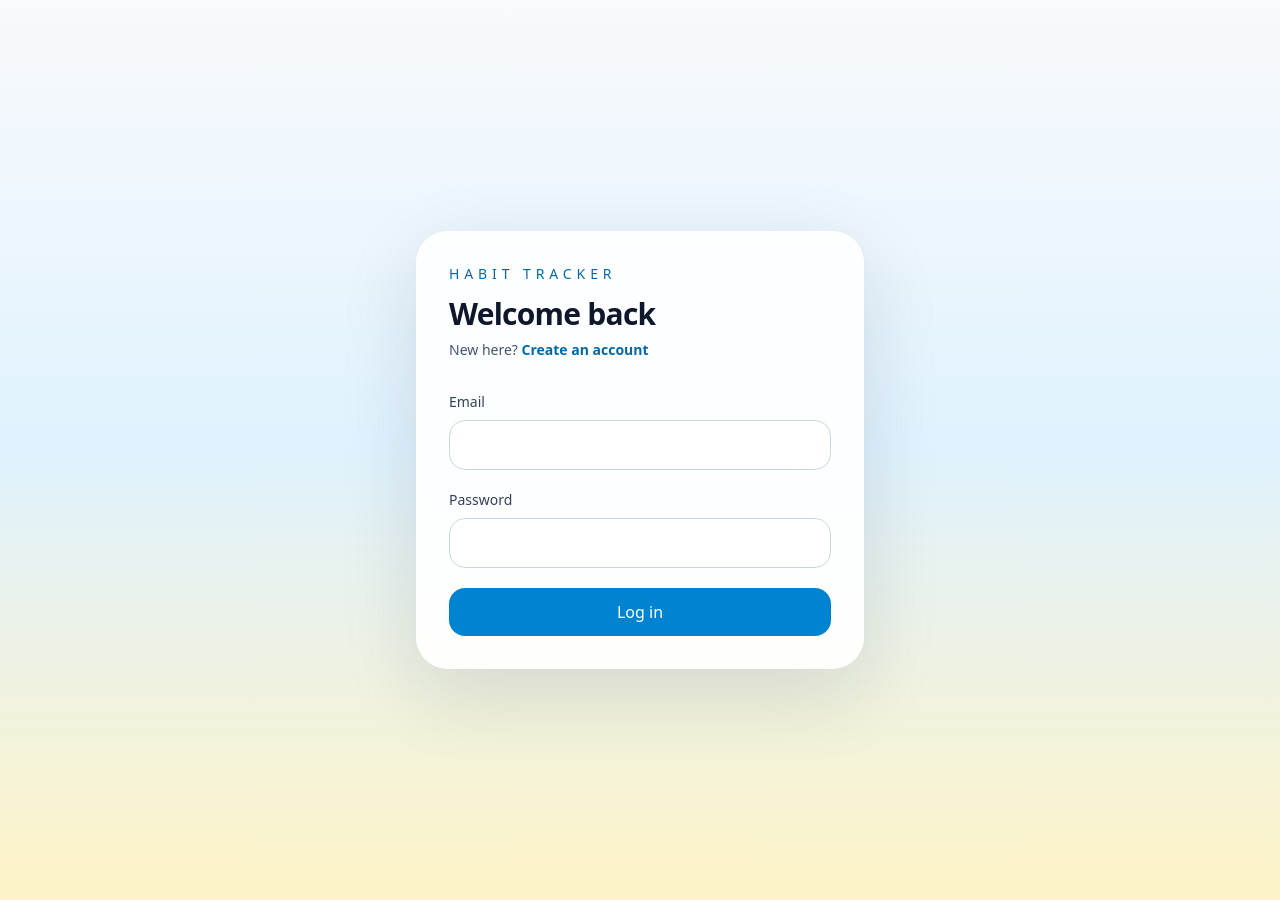
it: auth flow › shows an error for invalid login credentials
The image size is (1280, 900).
In the field with test id "auth-login-email": (640, 445) [449, 420, 831, 470], type "missing@example.com"
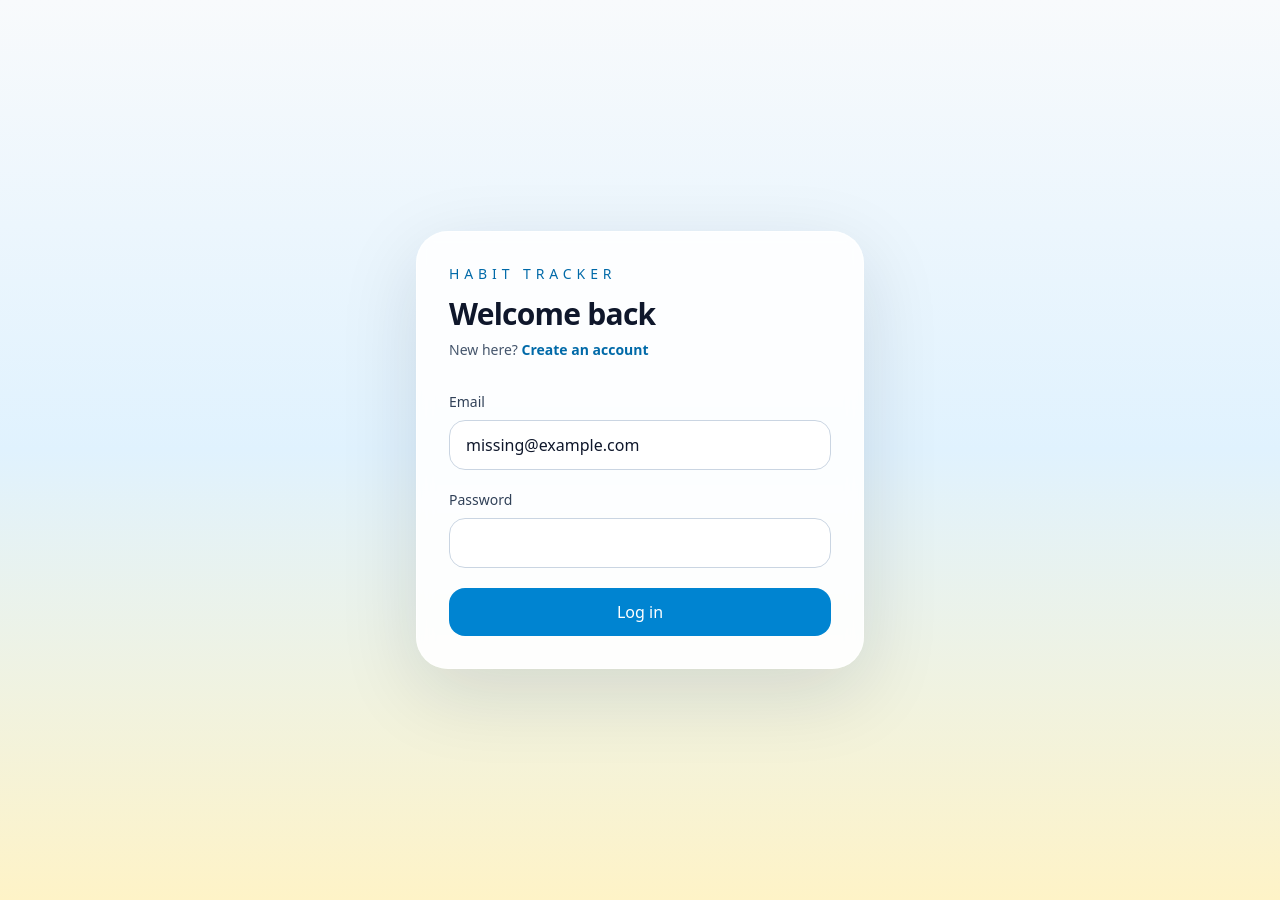
In the password field with test id "auth-login-password": (640, 543) [449, 518, 831, 568], type "wrong-password"
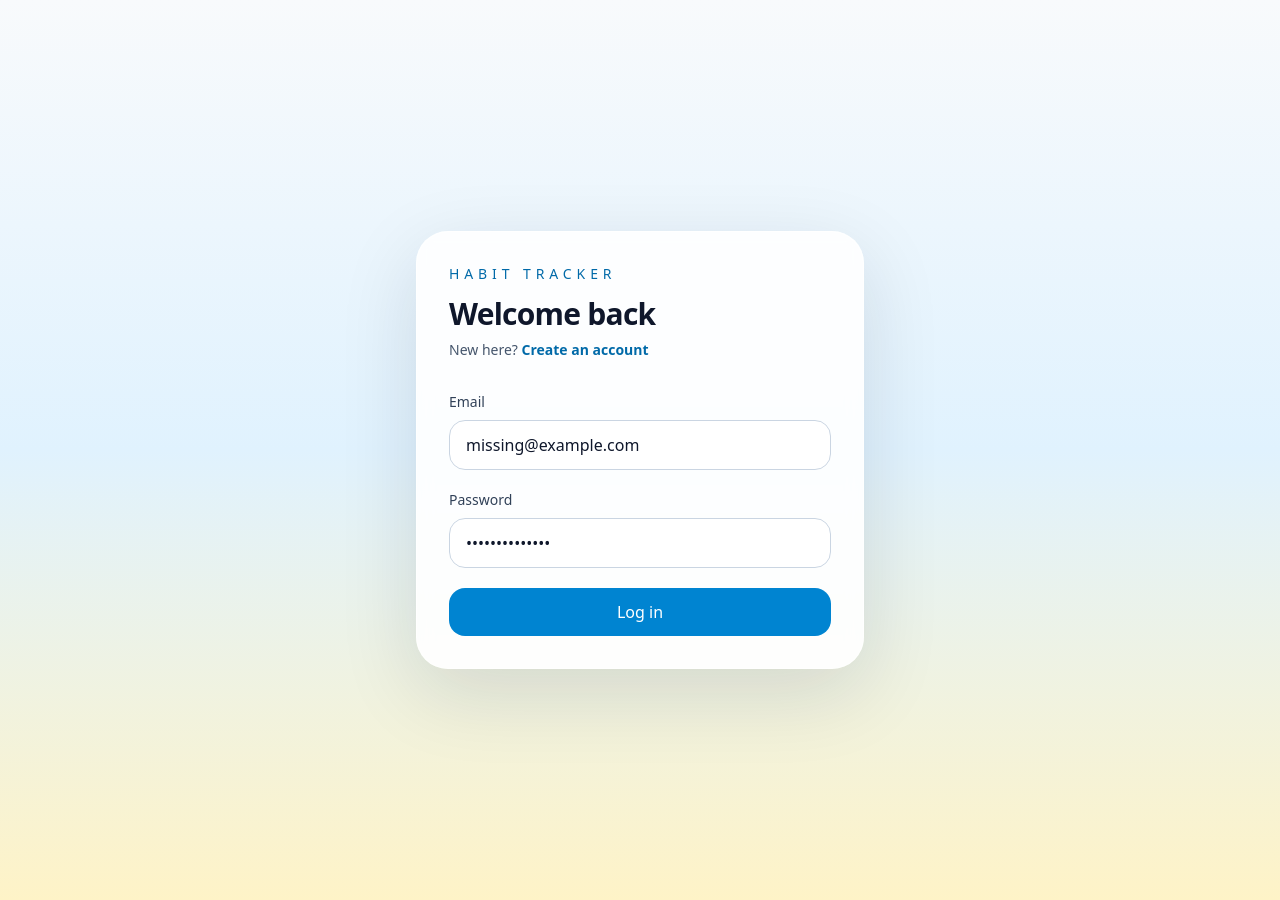
Click the button with test id "auth-login-submit": (640, 612) [449, 588, 831, 636]
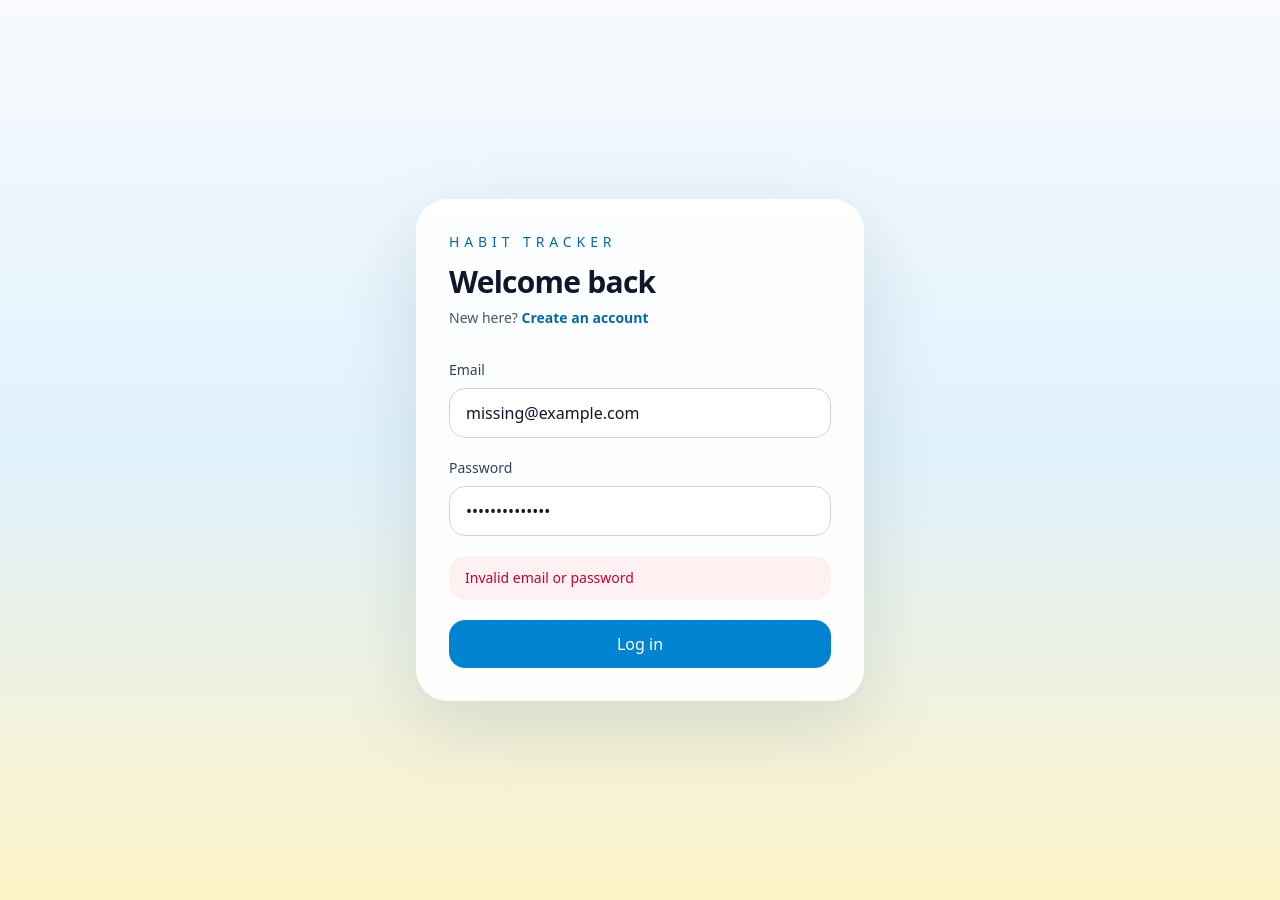
Check: the text "Invalid email or password" is shown, box [449, 556, 831, 600]
